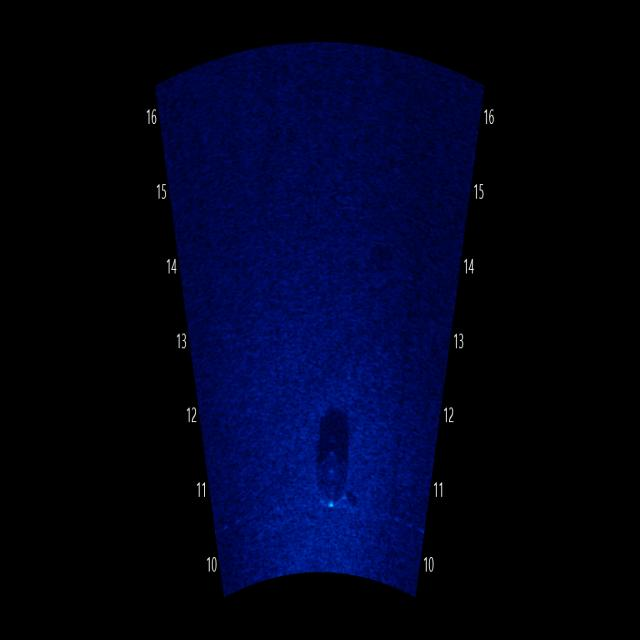circle: (308, 432, 364, 528)
